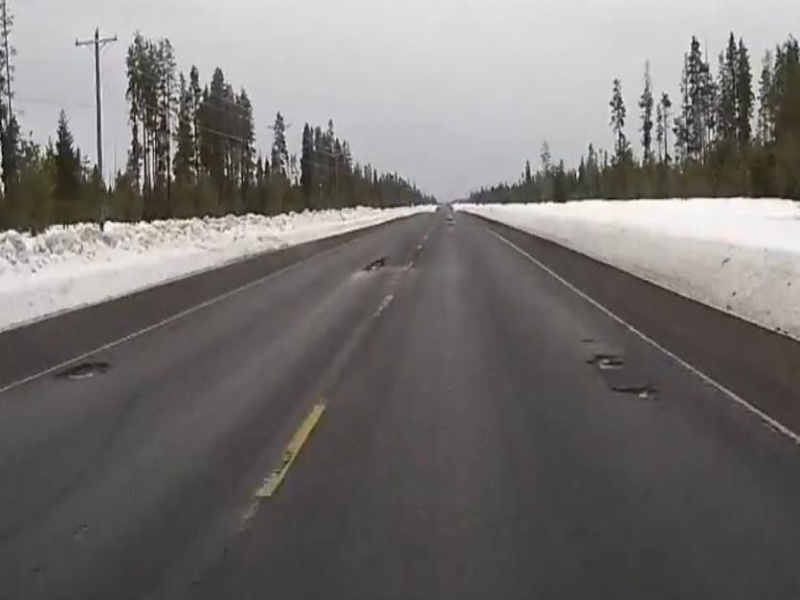pothole: (59, 359, 114, 383), (610, 380, 660, 403), (586, 351, 622, 373)
